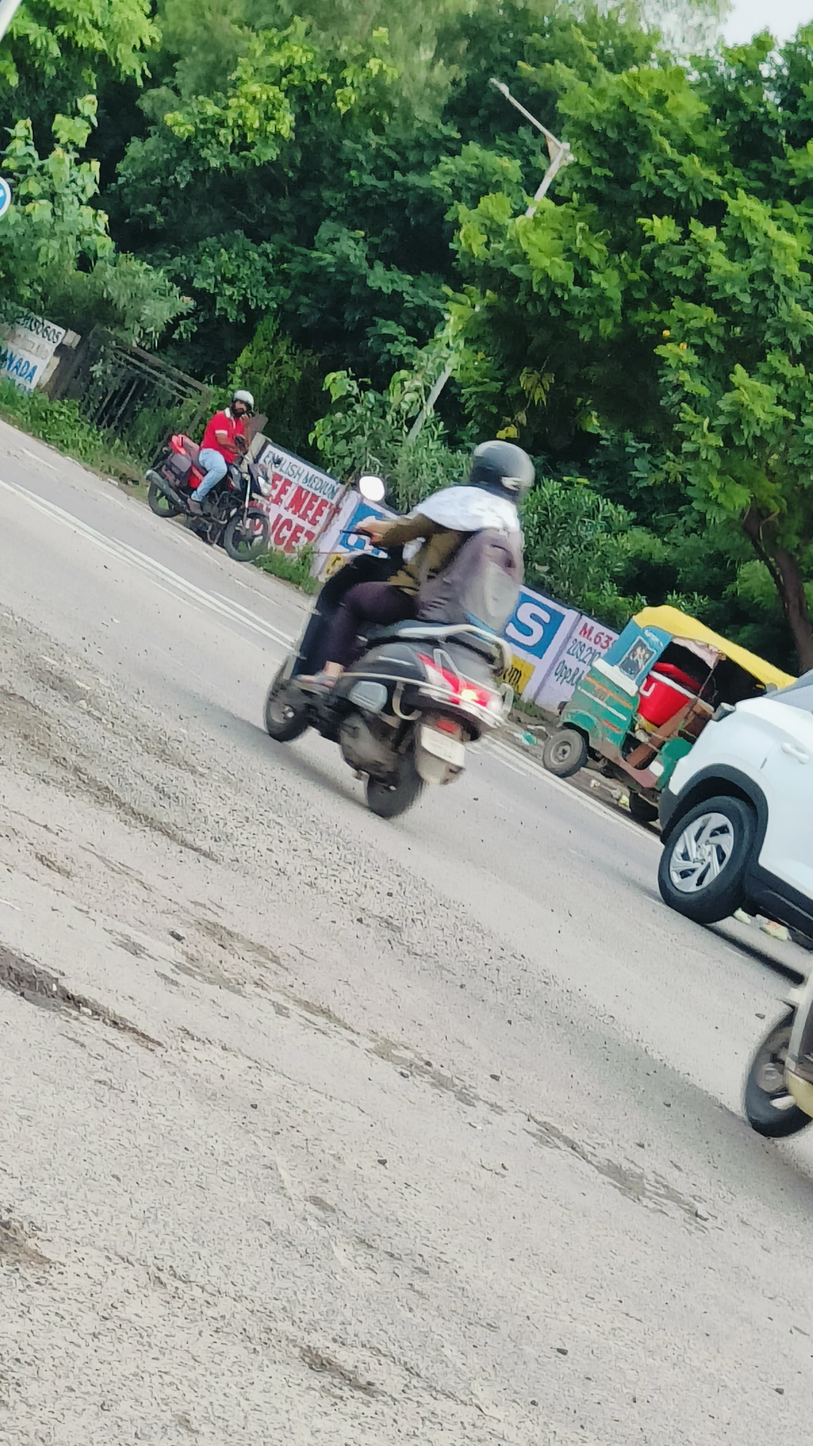BikeWithRider: (249, 422, 544, 826), (135, 377, 279, 571)
Helmet: (454, 434, 542, 503)
